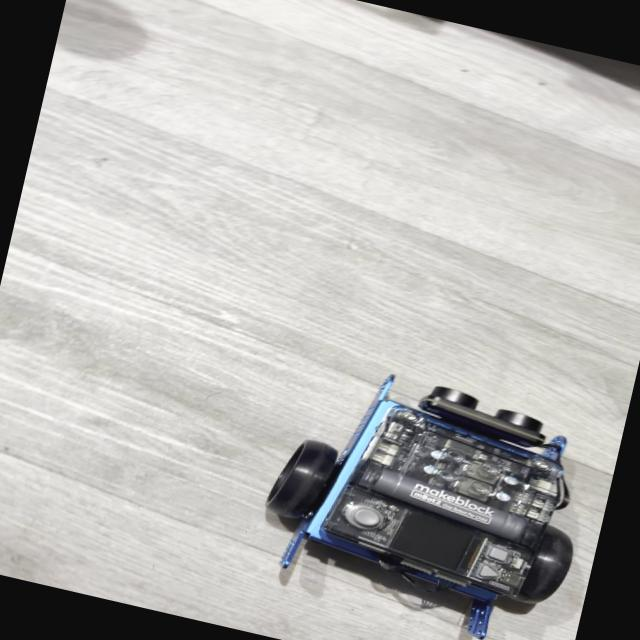mbot-detection: (237, 339, 626, 640)
